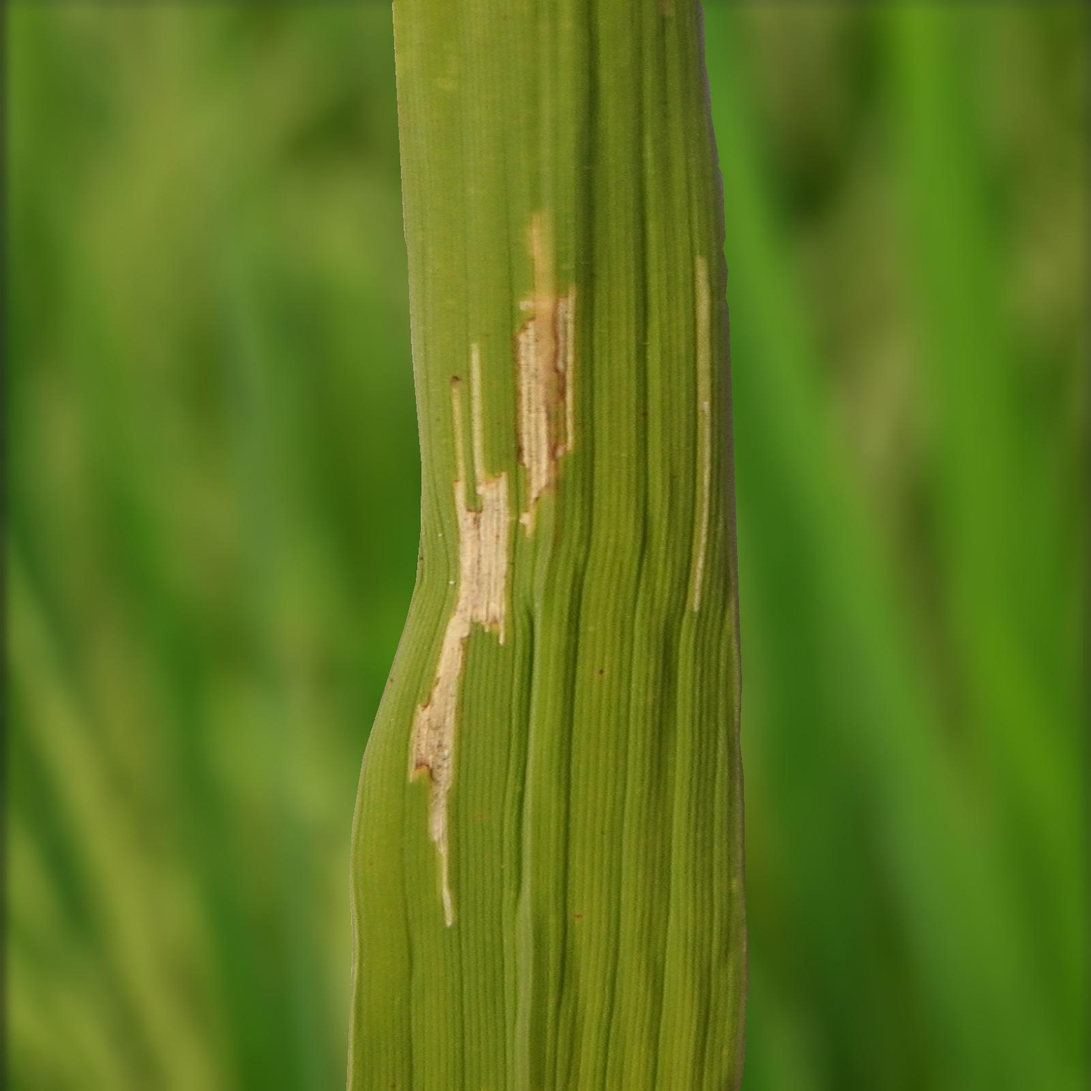BLS: (409, 344, 511, 927), (516, 213, 573, 534)
LEAF: (346, 0, 748, 1090)
